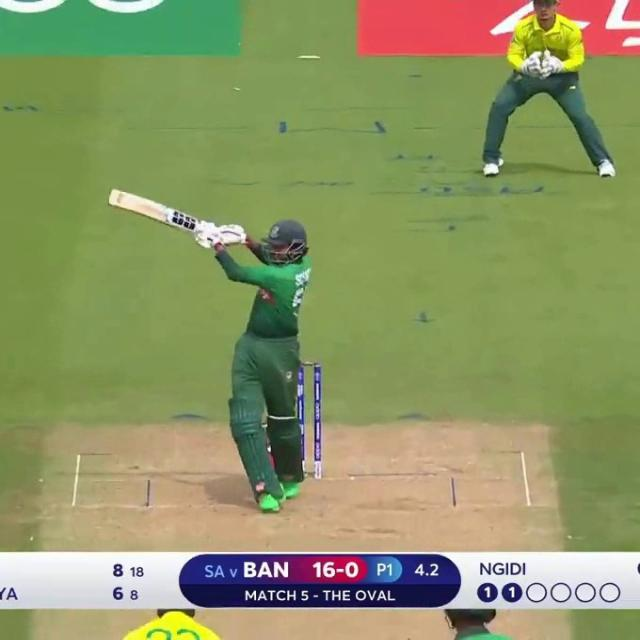bat: (107, 187, 199, 231)
toe: (105, 188, 116, 205)
